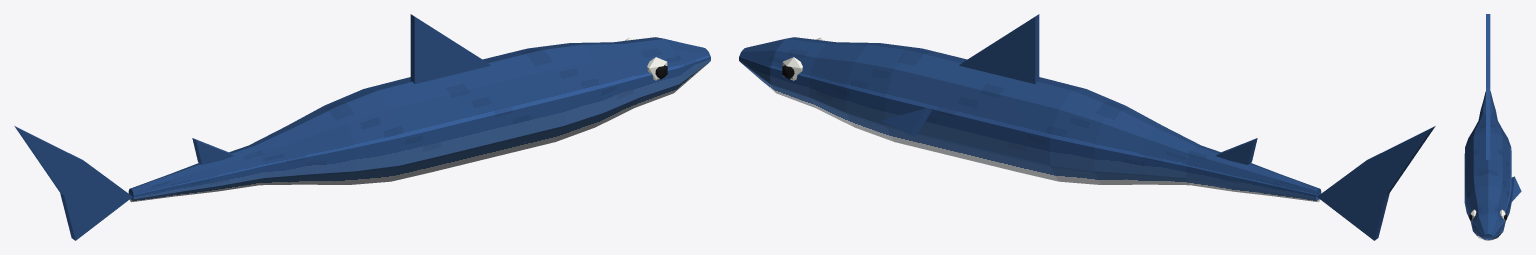
The model's file is shortfin_mako.glb.
The picture shows the model from 3 angles, left to right: view 1: azimuth 30°, elevation 25°; view 2: azimuth 150°, elevation 25°; view 3: azimuth 270°, elevation 25°; orthographic projection. The views are drawn at different scales.
Visible parts, largest first — view 1: fish_shortfin_mako; view 2: fish_shortfin_mako; view 3: fish_shortfin_mako.
Boxes of the visible parts, x1=… form: fish_shortfin_mako: x1=14, y1=14, x2=710, y2=240; fish_shortfin_mako: x1=739, y1=14, x2=1435, y2=240; fish_shortfin_mako: x1=1464, y1=14, x2=1521, y2=240.
Size of the model in its own units: 1.2 by 0.26 by 0.1669.
Materials: 4 (1 with a texture image).
